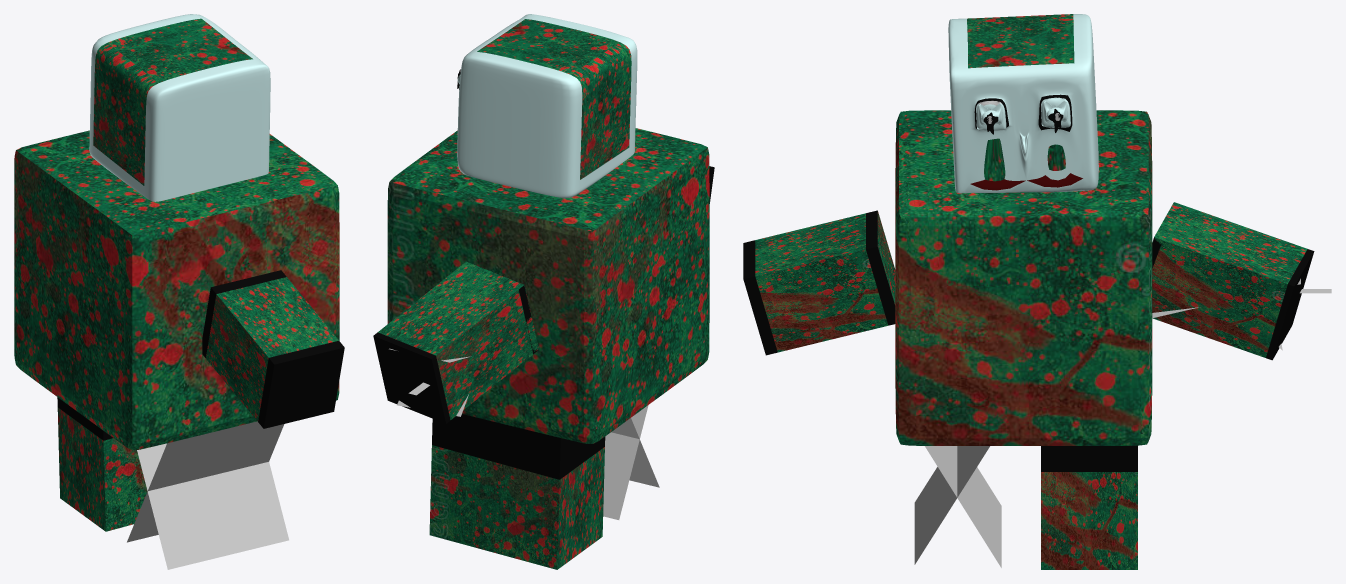
The picture shows the model from 3 angles, left to right: view 1: azimuth 30°, elevation 25°; view 2: azimuth 150°, elevation 25°; view 3: azimuth 270°, elevation 25°; orthographic projection. The views are drawn at different scales.
Parts seen in each view (by area): view 1: Cube_Cube.001, Cube.001_Cube.002, Cube.005_Cube.007, RectLL1.001_Plane.011, Cube.003_Cube.004, RectRL1_Plane.009; view 2: Cube_Cube.001, Cube.001_Cube.002, Cube.003_Cube.004, Cube.004_Cube.005, RectRL1_Plane.009, RectLL1.001_Plane.011; view 3: Cube_Cube.001, Cube.001_Cube.002, Cube.004_Cube.005, Cube.005_Cube.007, Cube.003_Cube.004, RectRL1_Plane.009, RectLL1.001_Plane.011.
Boxes of the visible parts, <box> form: Cube_Cube.001: <box>14,130,339,449</box>; Cube.001_Cube.002: <box>89,14,270,201</box>; Cube.005_Cube.007: <box>202,270,344,428</box>; RectLL1.001_Plane.011: <box>137,443,288,569</box>; Cube.003_Cube.004: <box>57,397,147,531</box>; RectRL1_Plane.009: <box>127,421,284,542</box>; Cube_Cube.001: <box>387,128,709,443</box>; Cube.001_Cube.002: <box>457,14,637,198</box>; Cube.003_Cube.004: <box>429,414,605,569</box>; Cube.004_Cube.005: <box>373,261,538,423</box>; RectRL1_Plane.009: <box>603,405,648,519</box>; RectLL1.001_Plane.011: <box>611,418,659,487</box>; Cube_Cube.001: <box>895,110,1152,445</box>; Cube.001_Cube.002: <box>948,14,1098,193</box>; Cube.004_Cube.005: <box>1152,202,1314,360</box>; Cube.005_Cube.007: <box>743,210,895,355</box>; Cube.003_Cube.004: <box>1041,445,1137,569</box>; RectRL1_Plane.009: <box>925,446,1001,567</box>; RectLL1.001_Plane.011: <box>914,446,989,564</box>.
Size of what is drawn, in the model's own units: 1.46 by 3.15 by 3.34.
Materials: 14 (1 with a texture image).
